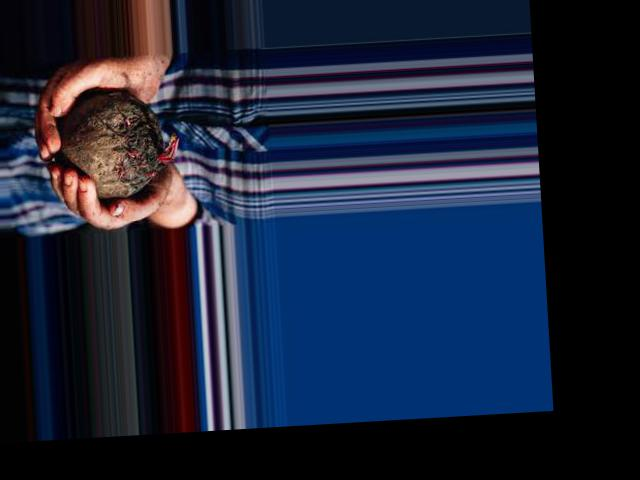beet: (55, 86, 182, 200)
